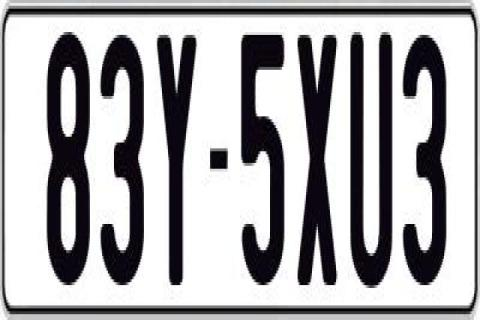0: (47, 26, 95, 282), (241, 29, 288, 288), (98, 32, 142, 300), (404, 35, 448, 299)
U: (348, 29, 396, 299)
X: (298, 29, 344, 285)
Y: (158, 32, 200, 296)
